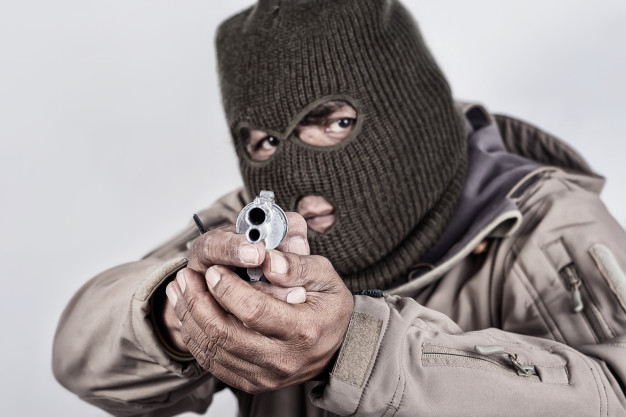thief: (49, 5, 605, 398), (191, 2, 499, 302)
weapon: (217, 181, 303, 299)
